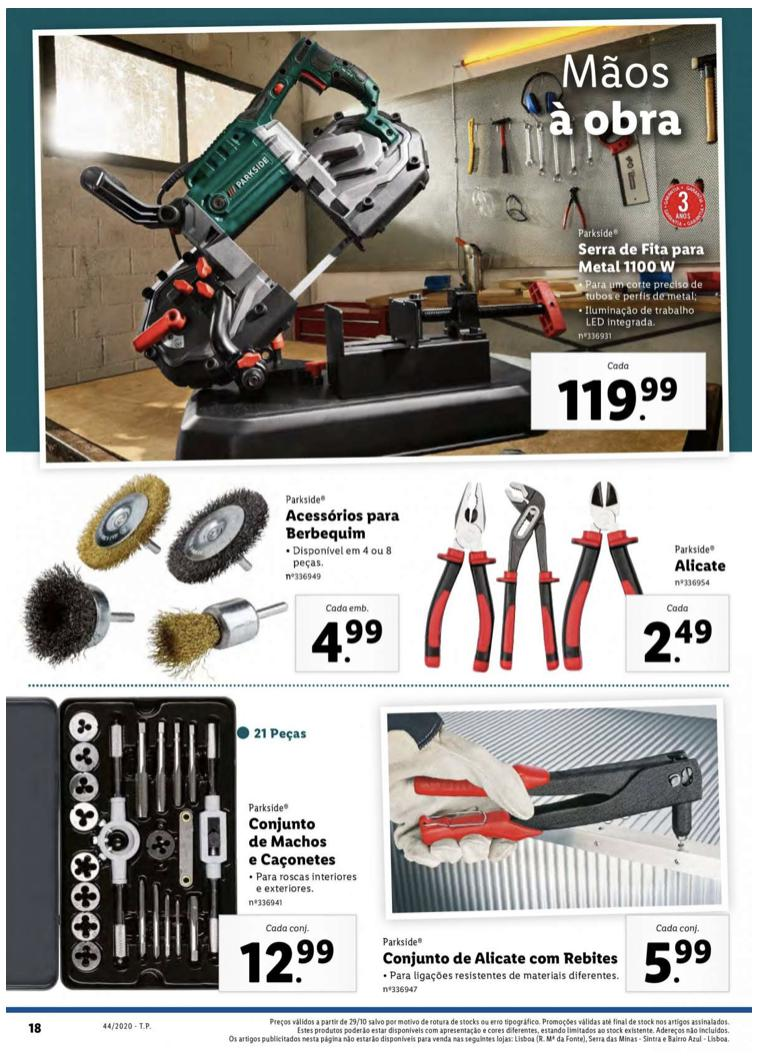name: (570, 238, 710, 278), (281, 503, 404, 546), (246, 817, 342, 870), (384, 948, 626, 965), (670, 555, 729, 578)
price: (554, 374, 681, 424), (235, 933, 335, 987), (642, 933, 722, 988), (306, 612, 387, 666), (642, 612, 717, 669)
product: (50, 28, 727, 444), (5, 693, 366, 999), (373, 698, 733, 998), (17, 466, 406, 679), (420, 470, 734, 675)
